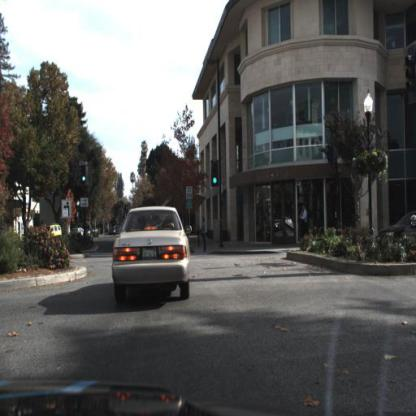car: (112, 205, 192, 305), (374, 212, 416, 246)
pedestrian: (300, 204, 310, 233), (201, 215, 208, 251)
trafficLight: (212, 160, 221, 186), (81, 165, 88, 186)
trafficLight-Green: (212, 163, 220, 187)
